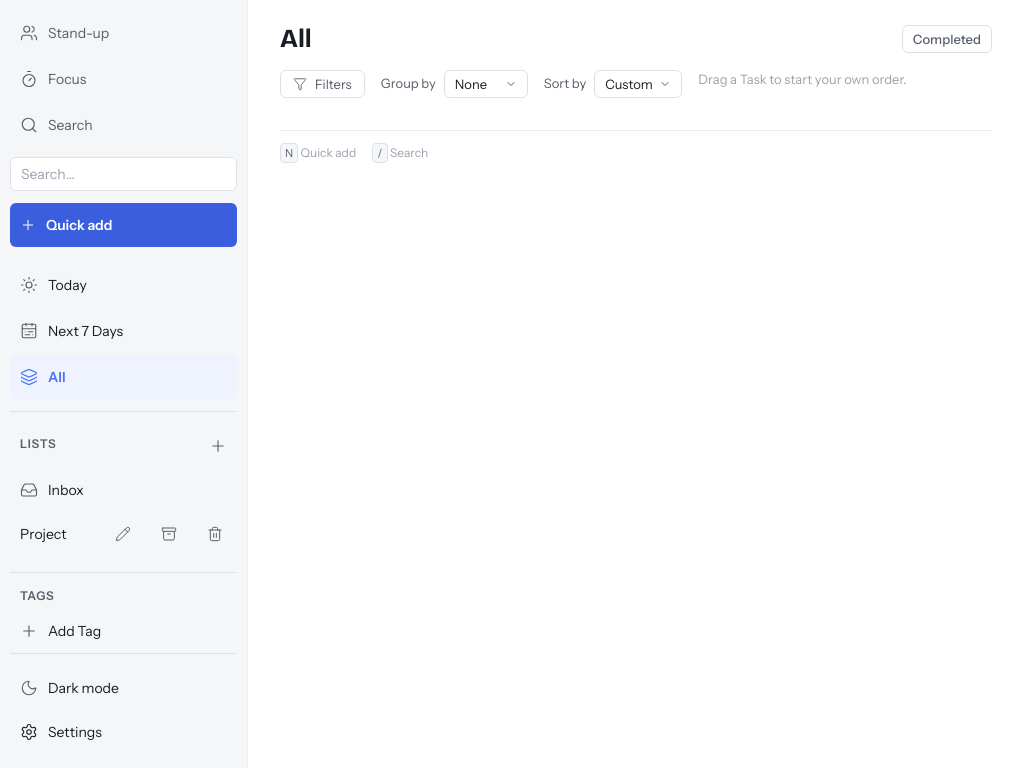
Sections in the list view › creates a Section from the Add Section form
(page scrolled)
Click the button "Project".
click(56, 534)  # box [10,512,101,556]
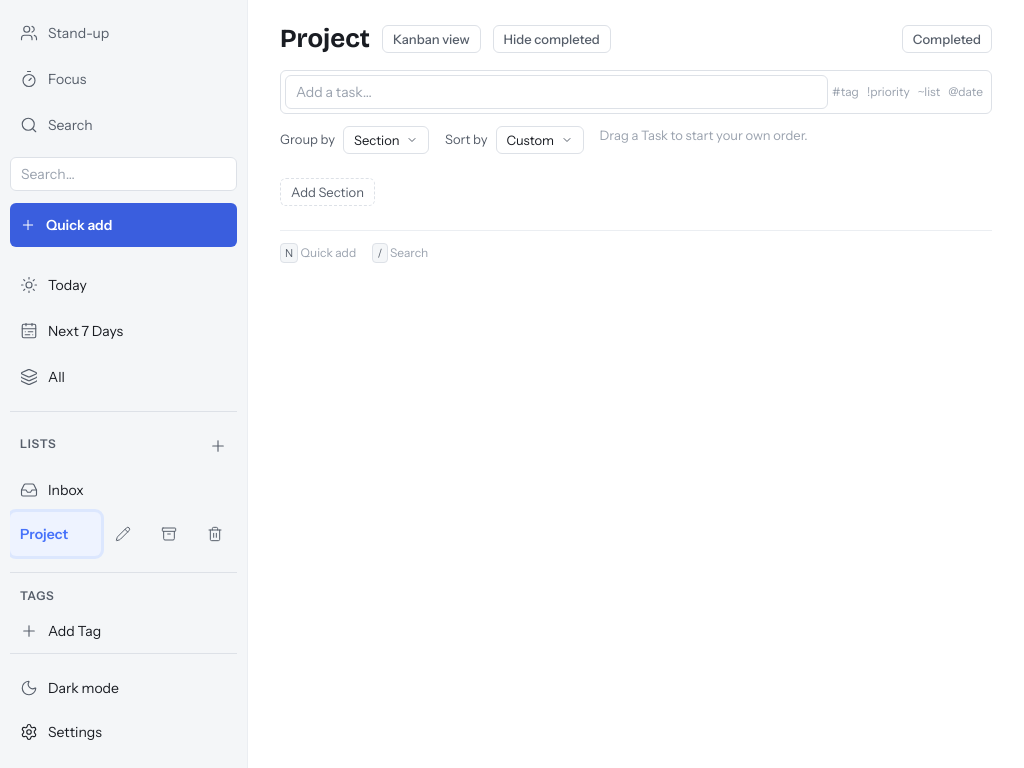
Click the button "Add Section".
click(328, 192)  # box [280,178,375,206]
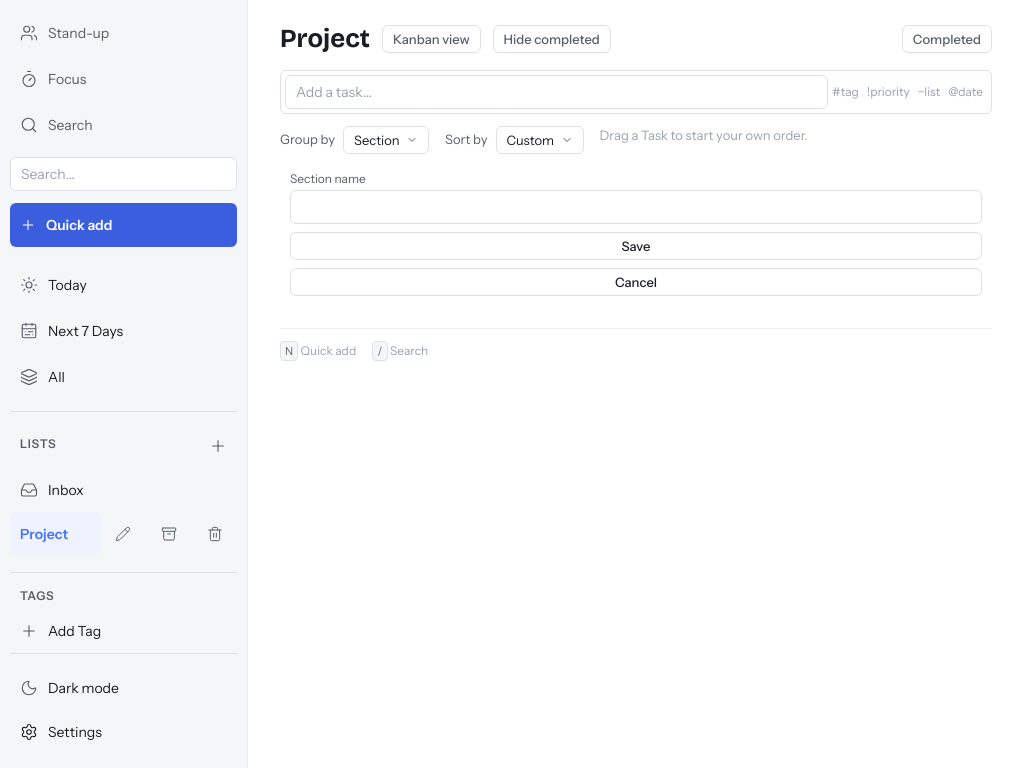
Type "Backlog" into the field labelled "Section name".
click(636, 207); type("Backlog")  # box [290,190,982,224]
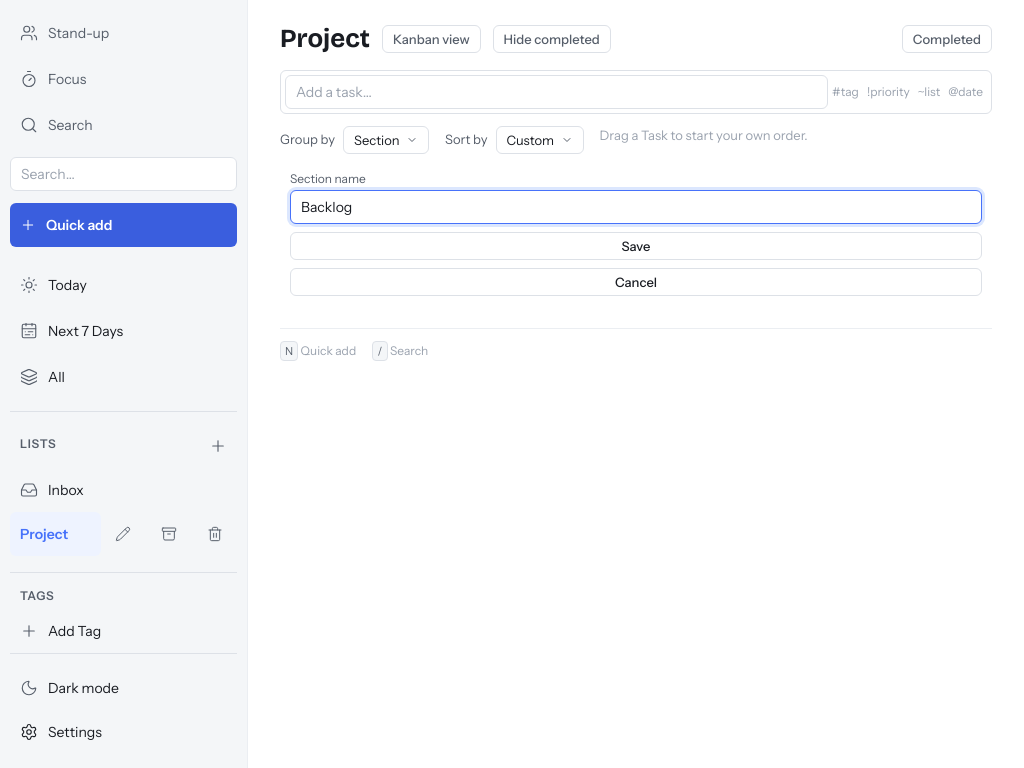
Click the button "Save".
click(636, 246)  # box [290,232,982,260]
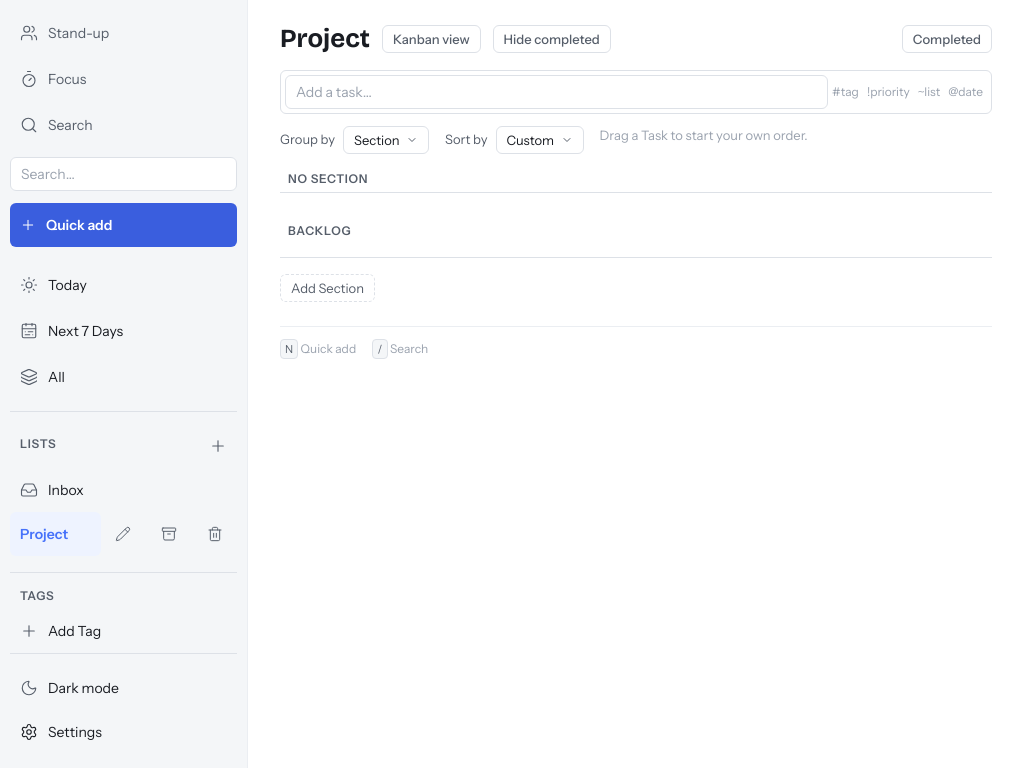
Result: the heading "Backlog" is shown at [288,222,351,240]
